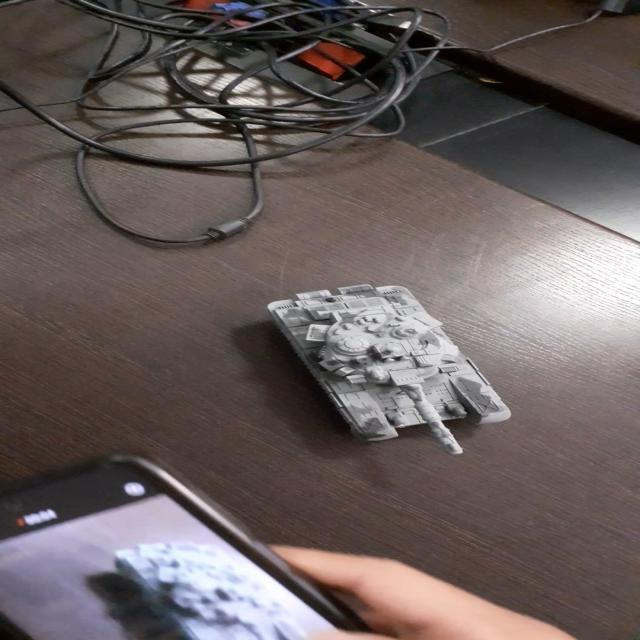tank: (266, 284, 513, 455)
